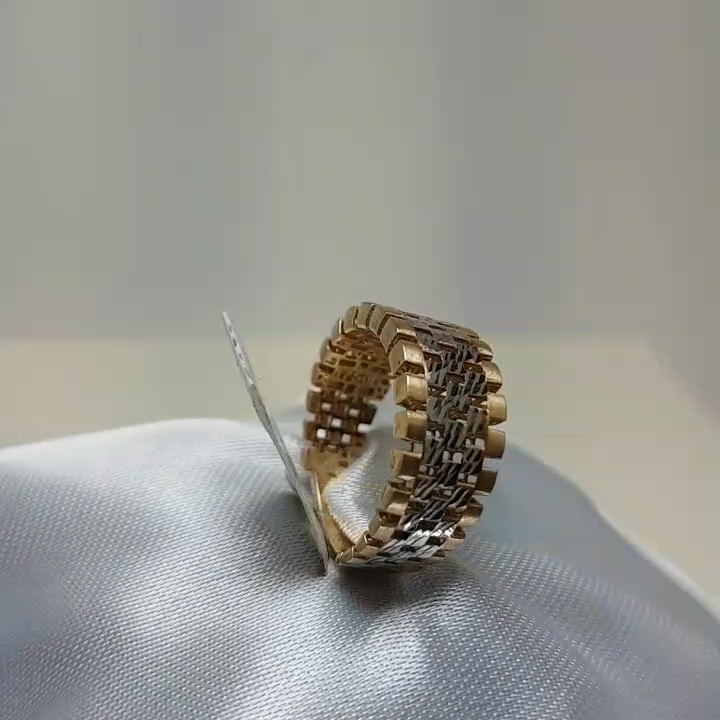Ring 1: (273, 274, 503, 601)
